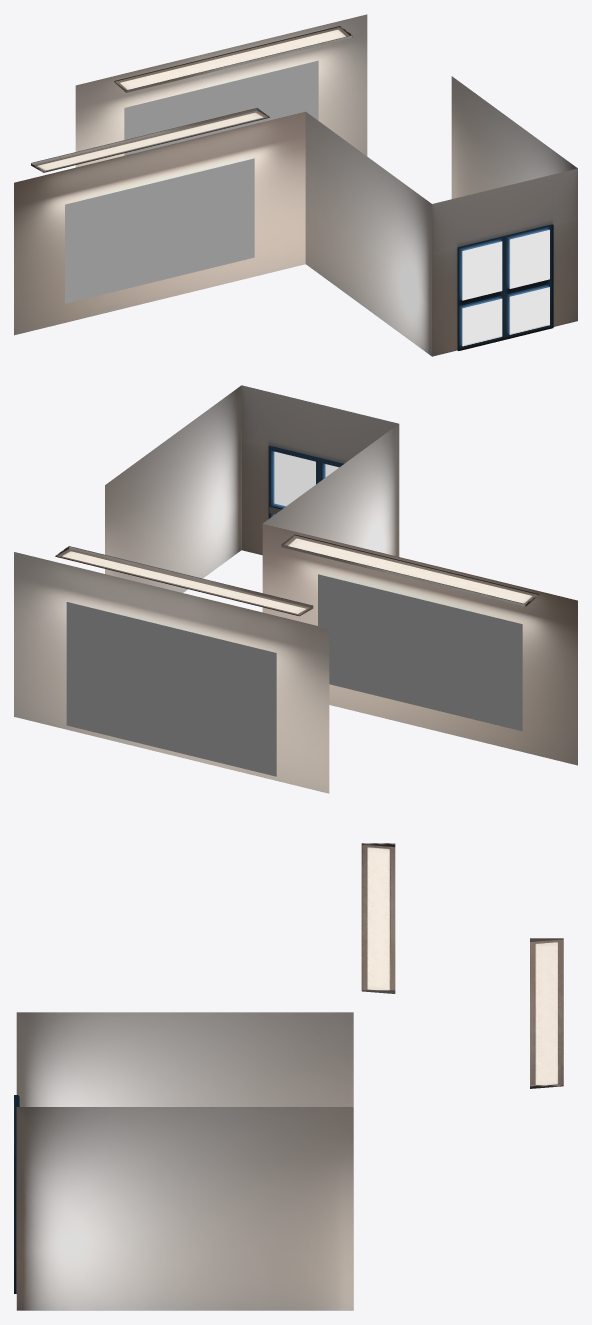
The model's file is entrance.gltf.
The picture shows the model from 3 angles, top to bottom: view 1: azimuth 30°, elevation 25°; view 2: azimuth 150°, elevation 25°; view 3: azimuth 270°, elevation 25°; orthographic projection. The views are drawn at different scales.
Visible parts, largest first — view 1: structure sign board, main door, structure entrance L, signboard, structure banner, structure entrance R, banner IMG_3237 焦糖, square lamp banner, square lamp signboard; view 2: structure banner, banner IMG_3237 焦糖, structure sign board, signboard, structure entrance R, main door, structure entrance L, square lamp signboard, square lamp banner; view 3: structure entrance R, structure entrance L, square lamp signboard, square lamp banner, main door.
Boxes of the visible parts, x1=… form: structure sign board: x1=14, y1=111, x2=305, y2=335; main door: x1=432, y1=168, x2=577, y2=356; structure entrance L: x1=305, y1=112, x2=431, y2=356; signboard: x1=65, y1=158, x2=254, y2=303; structure banner: x1=75, y1=14, x2=367, y2=167; structure entrance R: x1=451, y1=76, x2=577, y2=198; banner IMG_3237 焦糖: x1=124, y1=60, x2=318, y2=155; square lamp banner: x1=114, y1=26, x2=352, y2=92; square lamp signboard: x1=31, y1=108, x2=269, y2=172; structure banner: x1=14, y1=552, x2=329, y2=793; banner IMG_3237 焦糖: x1=66, y1=602, x2=276, y2=776; structure sign board: x1=262, y1=524, x2=577, y2=765; signboard: x1=318, y1=574, x2=522, y2=731; structure entrance R: x1=105, y1=385, x2=241, y2=592; main door: x1=241, y1=385, x2=398, y2=555; structure entrance L: x1=263, y1=424, x2=399, y2=556; square lamp signboard: x1=281, y1=534, x2=539, y2=606; square lamp banner: x1=55, y1=546, x2=313, y2=616; structure entrance R: x1=16, y1=1107, x2=353, y2=1310; structure entrance L: x1=16, y1=1012, x2=353, y2=1106; square lamp signboard: x1=361, y1=843, x2=395, y2=993; square lamp banner: x1=530, y1=938, x2=563, y2=1088; main door: x1=14, y1=1095, x2=19, y2=1293.
Bounding box in the file's own units: 12 × 4.01 × 10.05.
